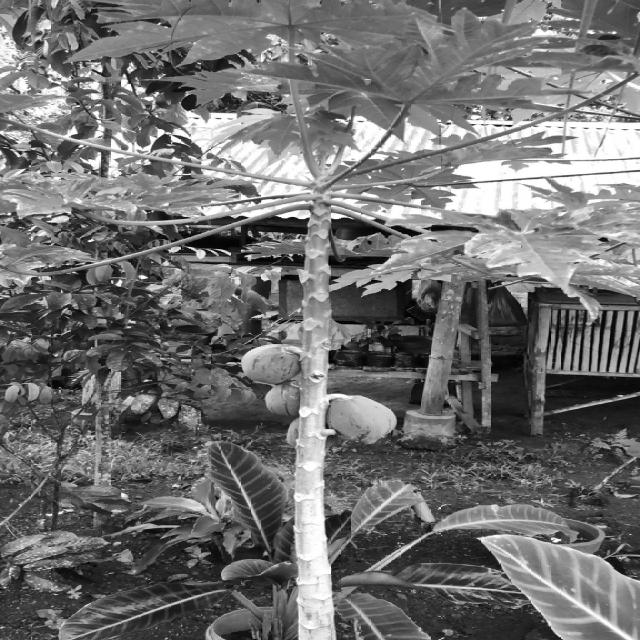Papaya-Tree: (23, 15, 640, 589)
